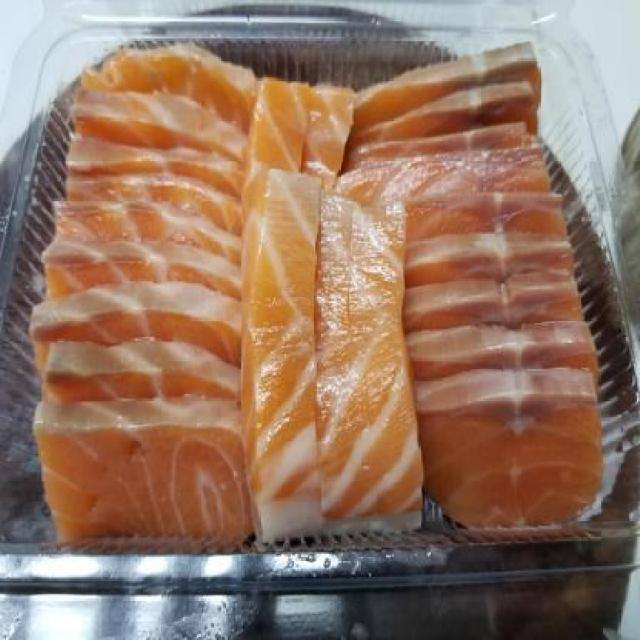salmon: (52, 37, 610, 555)
